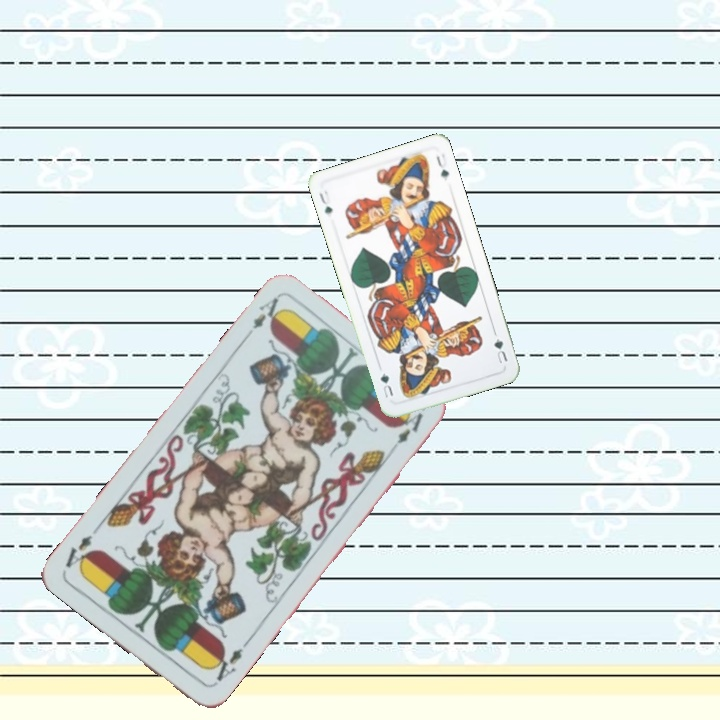EA: (240, 293, 287, 343), (206, 644, 246, 688)
GU: (490, 334, 510, 366), (315, 186, 335, 217)
